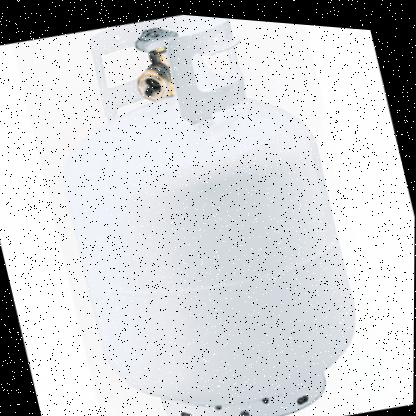gas-tank: (2, 0, 399, 415)
